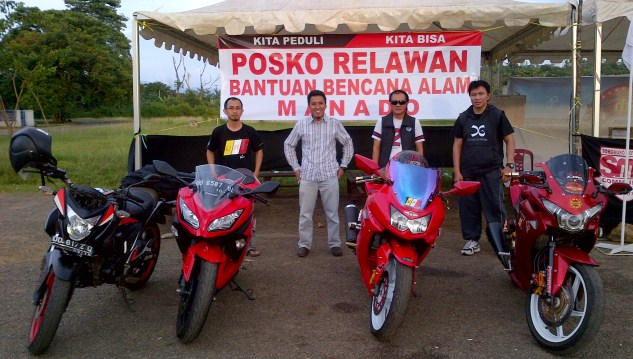plate: (52, 234, 91, 256)
